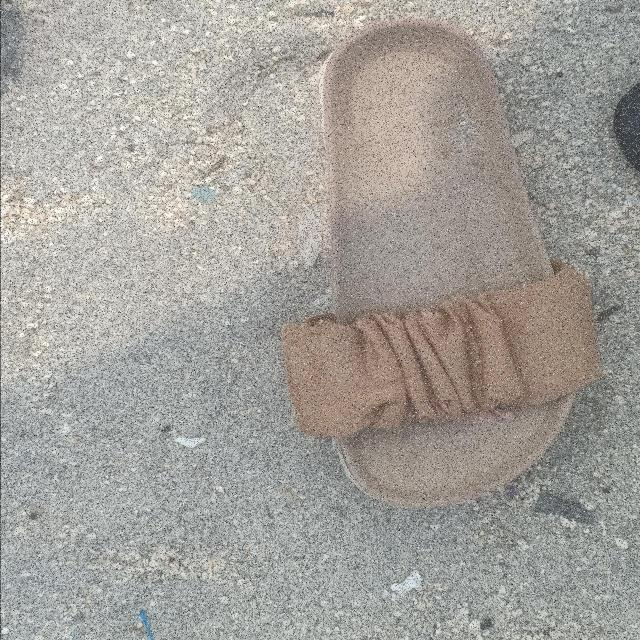rubber_waste: (280, 20, 603, 510)
